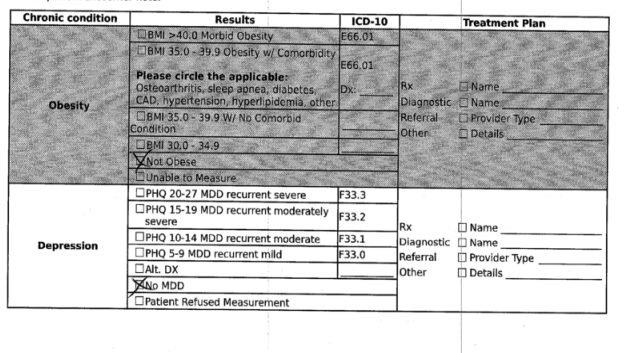checked: (131, 152, 153, 171), (126, 277, 149, 295)
